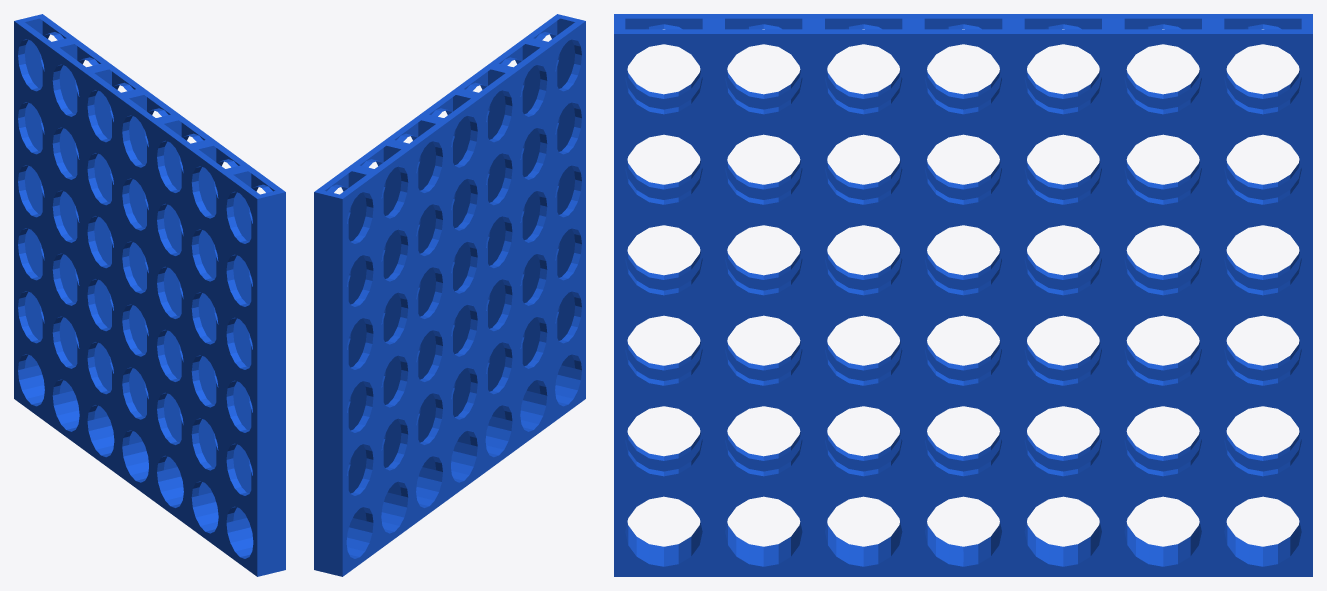
The model's file is connect4board.glb.
3 renders of one model, left to right at view 1: azimuth 30°, elevation 25°; view 2: azimuth 150°, elevation 25°; view 3: azimuth 270°, elevation 25°, orthographic. The views are drawn at different scales.
Parts seen in each view (by area): view 1: ColumnOne, ColumnFour, ColumnFive, ColumnSeven, ColumnSix, ColumnTwo, ColumnThree; view 2: ColumnSeven, ColumnTwo, ColumnFour, ColumnOne, ColumnThree, ColumnFive, ColumnSix; view 3: ColumnFour, ColumnThree, ColumnFive, ColumnOne, ColumnTwo, ColumnSeven, ColumnSix.
Part boxes in pixels (left/top/right/bottom): ColumnOne: left=222, top=166, right=285, bottom=576; ColumnFour: left=118, top=90, right=181, bottom=500; ColumnFive: left=83, top=65, right=146, bottom=474; ColumnSeven: left=14, top=14, right=77, bottom=423; ColumnSix: left=48, top=39, right=111, bottom=449; ColumnTwo: left=188, top=141, right=251, bottom=551; ColumnThree: left=153, top=116, right=216, bottom=525; ColumnSeven: left=314, top=166, right=377, bottom=576; ColumnTwo: left=488, top=39, right=551, bottom=449; ColumnFour: left=418, top=90, right=481, bottom=500; ColumnOne: left=522, top=14, right=585, bottom=423; ColumnThree: left=453, top=65, right=516, bottom=474; ColumnFive: left=383, top=116, right=446, bottom=525; ColumnSix: left=348, top=141, right=411, bottom=551; ColumnFour: left=913, top=14, right=1013, bottom=576; ColumnThree: left=813, top=14, right=913, bottom=576; ColumnFive: left=1013, top=14, right=1113, bottom=576; ColumnOne: left=614, top=14, right=713, bottom=576; ColumnTwo: left=714, top=14, right=813, bottom=576; ColumnSeven: left=1213, top=14, right=1312, bottom=576; ColumnSix: left=1113, top=14, right=1212, bottom=576.
Bounding box in the file's own units: 0.9499 × 12 × 14.
